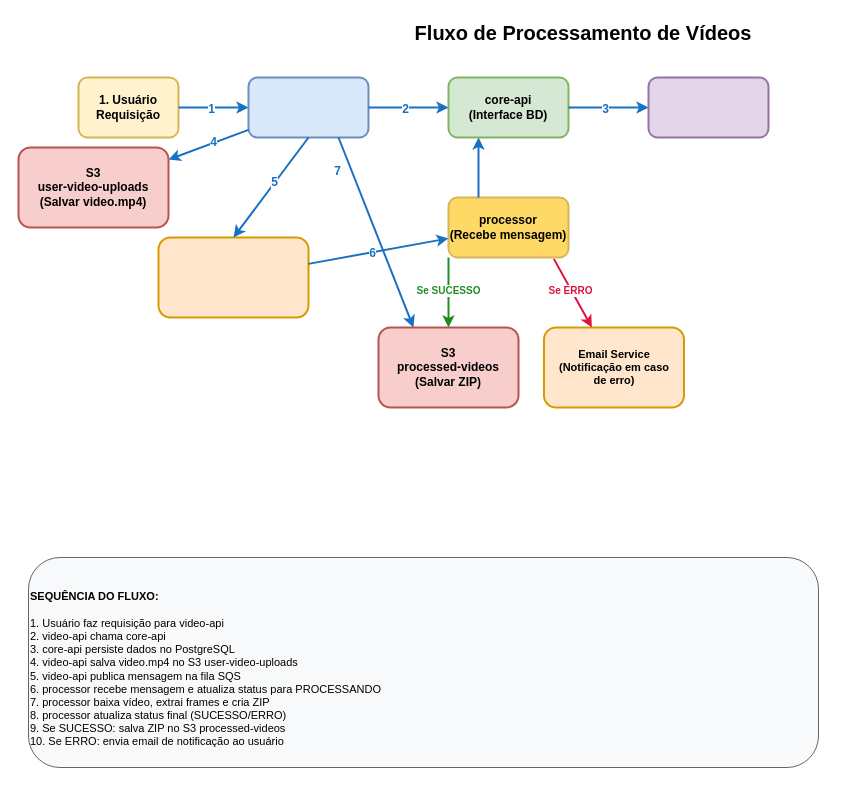
This 850x785 diagram has some shape labels left out. Each missing label, with the box of its shape:
PostgreSQL Database: (647, 76, 769, 138)
SQS video-processing-queue (Publicar mensagem): (157, 236, 309, 318)
video-api (Orquestrador): (247, 76, 369, 138)
